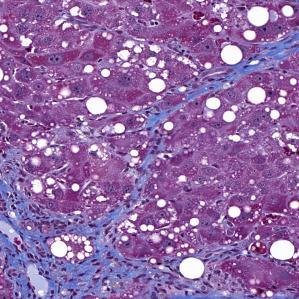fibrosis: (6, 195, 115, 279), (240, 32, 299, 73), (133, 253, 186, 292)
